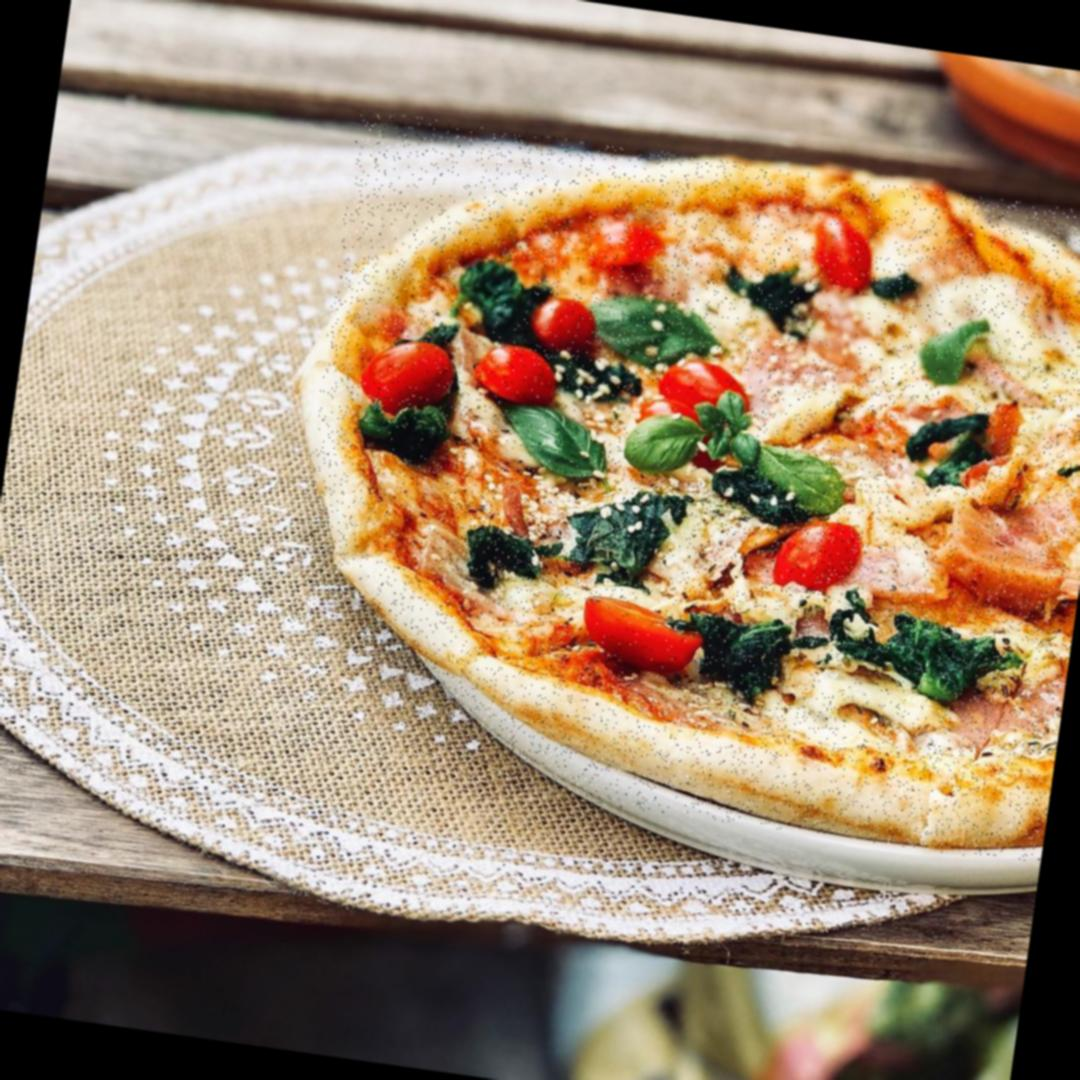Arugula: (822, 606, 1022, 715), (567, 490, 690, 576), (694, 602, 792, 702), (716, 260, 818, 340), (452, 256, 539, 349), (901, 405, 994, 490), (351, 400, 458, 468), (466, 521, 543, 590)
Basil: (621, 378, 761, 488), (584, 287, 727, 362), (494, 398, 614, 484), (744, 442, 856, 520), (912, 306, 992, 393)
Ham: (924, 478, 1080, 615), (856, 529, 968, 618), (807, 289, 884, 367)
Pizza: (267, 108, 1080, 865)
Tomatoes: (577, 593, 708, 680), (356, 335, 461, 415), (771, 517, 865, 600), (659, 356, 760, 427), (805, 212, 882, 295), (469, 342, 568, 406), (582, 216, 665, 279), (527, 294, 602, 350)
